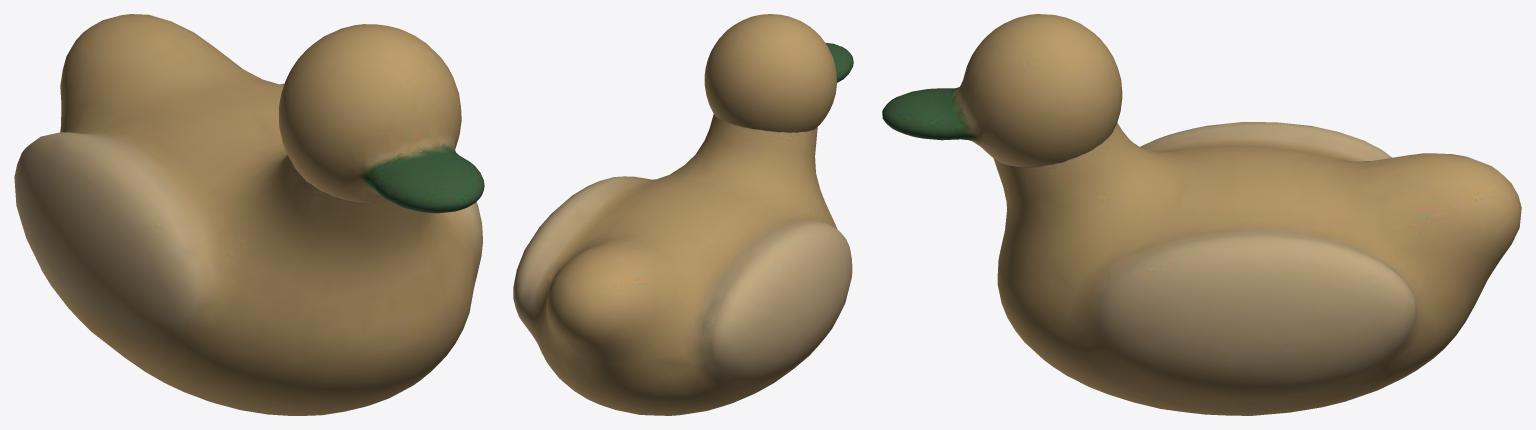
File: animal_khaki_campbell.glb
3 views of the same model, side by side, from view 1: azimuth 30°, elevation 25°; view 2: azimuth 150°, elevation 25°; view 3: azimuth 270°, elevation 25° (orthographic). The views are drawn at different scales.
Visible parts, largest first — view 1: animal_khaki_campbell, head; view 2: animal_khaki_campbell, head; view 3: animal_khaki_campbell, head.
Part boxes in pixels (<box>): animal_khaki_campbell: <box>14,14,482,415</box>; head: <box>279,24,484,213</box>; animal_khaki_campbell: <box>513,114,852,415</box>; head: <box>704,14,853,132</box>; animal_khaki_campbell: <box>993,122,1521,415</box>; head: <box>882,14,1122,167</box>.
Bounding box in the file's own units: 0.1669 × 0.19 × 0.2945.
Materials: 1 (1 with a texture image).
